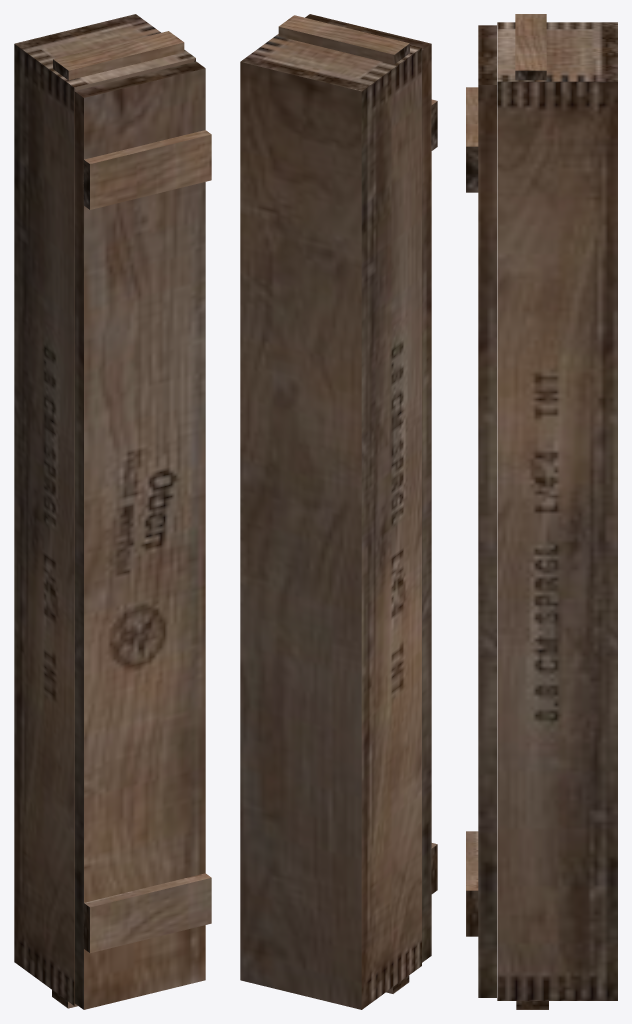
The model's file is military_flak88_box.glb.
The picture shows the model from 3 angles, left to right: view 1: azimuth 30°, elevation 25°; view 2: azimuth 150°, elevation 25°; view 3: azimuth 270°, elevation 25°; orthographic projection.
Bounding box in the file's own units: 5.52 × 40.67 × 5.96.
Materials: 1 (1 with a texture image).
